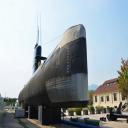submarine: (19, 10, 90, 109)
